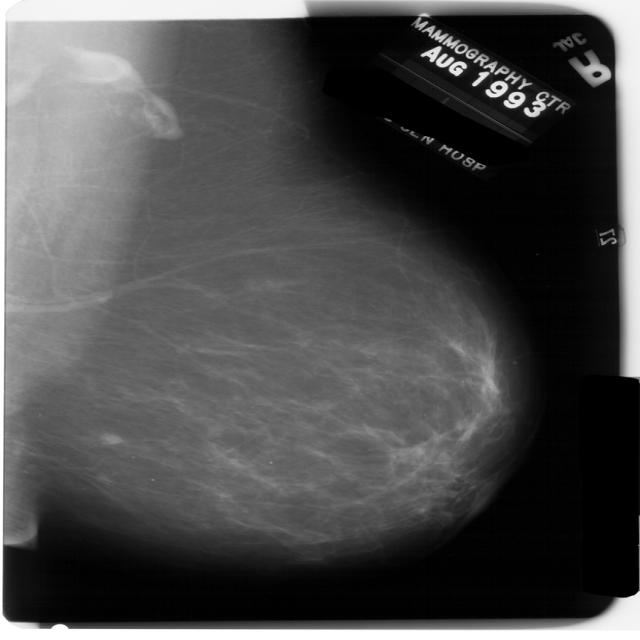tumour: (98, 432, 121, 445)
